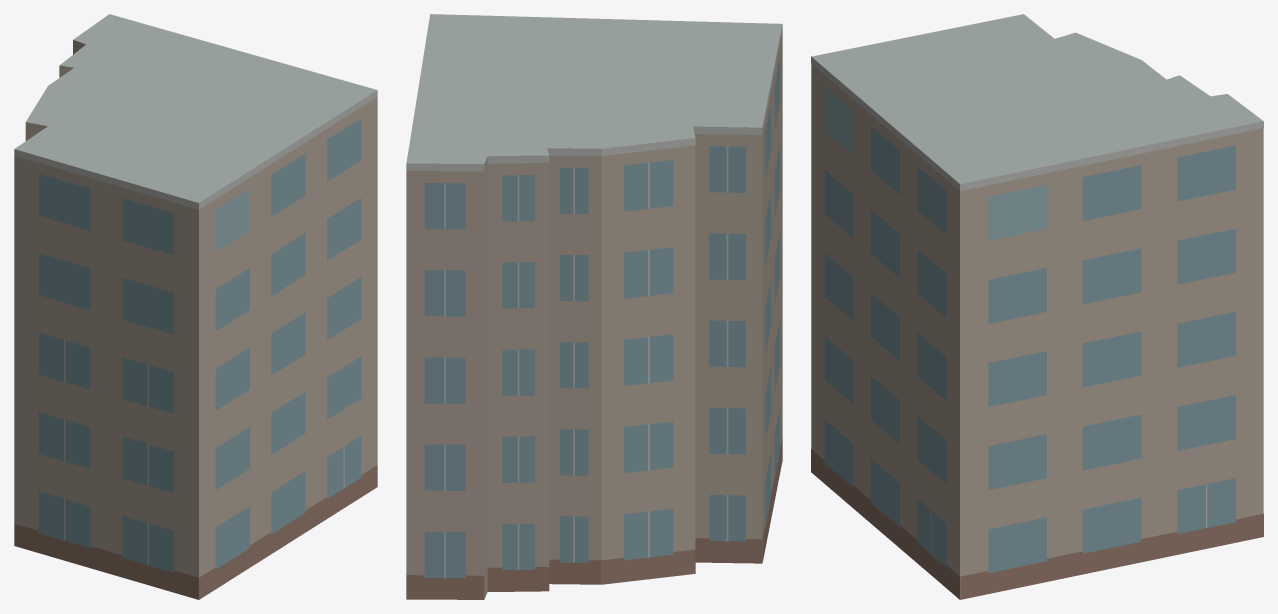
File: survey-upis-32722451.glb
3 views of the same model, side by side, from view 1: azimuth 30°, elevation 25°; view 2: azimuth 150°, elevation 25°; view 3: azimuth 270°, elevation 25° (orthographic). The views are drawn at different scales.
Parts seen in each view (by area): view 1: survey-upis-32722451.tmp; view 2: survey-upis-32722451.tmp; view 3: survey-upis-32722451.tmp.
Boxes of the visible parts, box(x1,y1,x2,y2) form: survey-upis-32722451.tmp: box(14, 14, 377, 599); survey-upis-32722451.tmp: box(406, 14, 782, 599); survey-upis-32722451.tmp: box(811, 14, 1263, 599).
Bounding box in the file's own units: 12.65 × 14.4 × 14.22.
